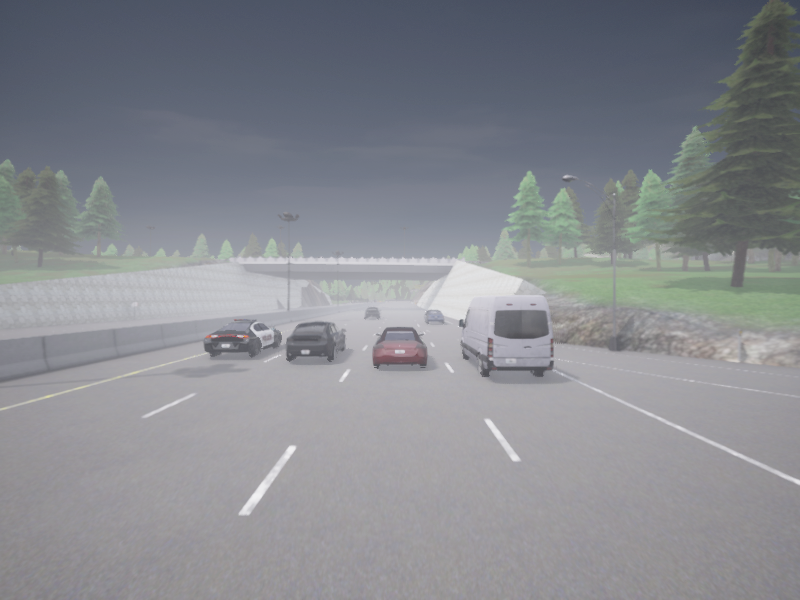vehicle: (459, 295, 553, 375), (203, 319, 280, 356), (286, 321, 346, 360), (372, 327, 426, 367), (424, 310, 443, 323), (365, 307, 381, 318)
